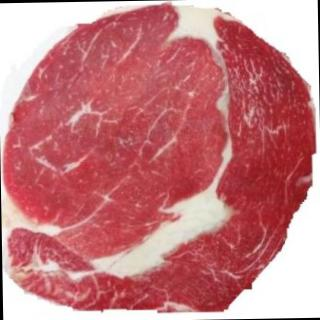Daging Sapi: (2, 4, 319, 316)
